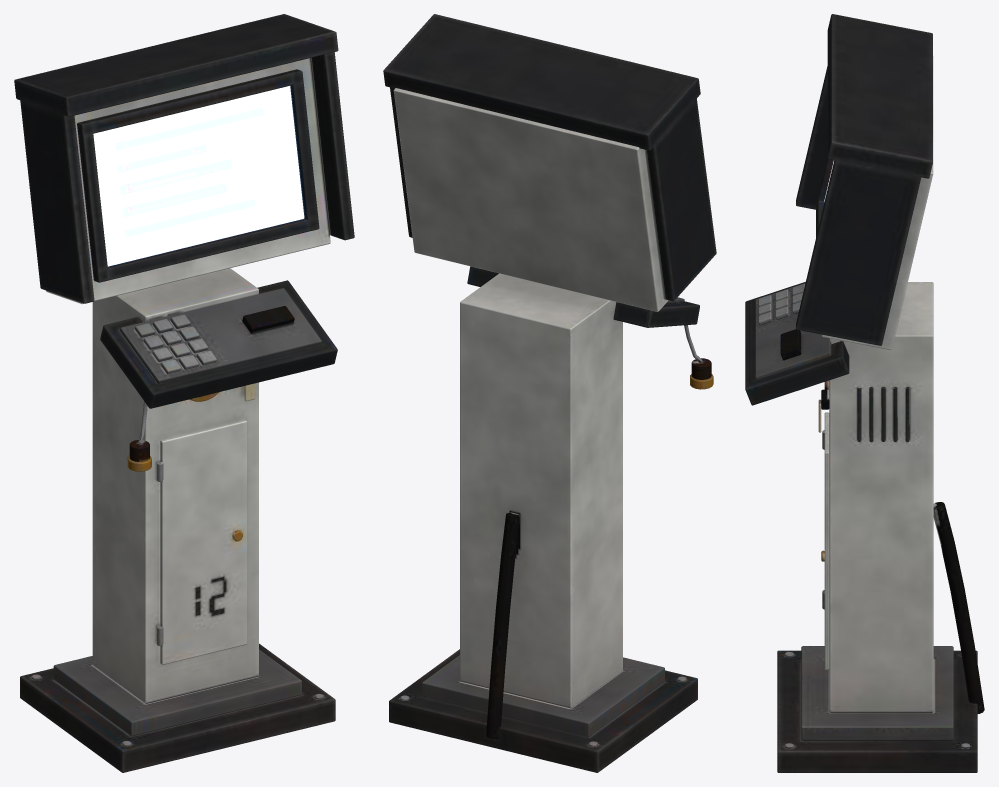
The model's file is terminal_kiosk.glb.
3 views of the same model, side by side, from view 1: azimuth 30°, elevation 25°; view 2: azimuth 150°, elevation 25°; view 3: azimuth 270°, elevation 25° (orthographic). The views are drawn at different scales.
Visible parts, largest first — view 1: terminal_kiosk; view 2: terminal_kiosk; view 3: terminal_kiosk.
Boxes of the visible parts, left/top/right/bottom form: terminal_kiosk: left=14, top=14, right=354, bottom=772; terminal_kiosk: left=383, top=14, right=716, bottom=772; terminal_kiosk: left=745, top=14, right=984, bottom=772.
Size of the model in its own units: 0.76 by 1.78 by 0.597.
2 materials, 2 textured.
